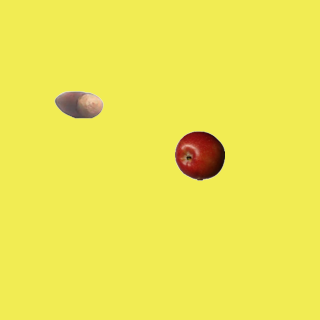Apple Braeburn: (174, 130, 224, 180)
Hazelnut: (53, 79, 103, 129)
